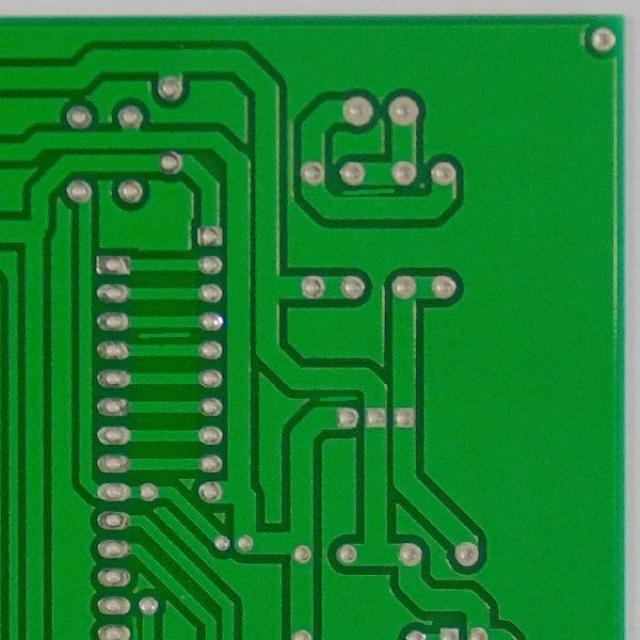Spurious_Cooper: (132, 330, 196, 340), (341, 186, 398, 196), (318, 392, 362, 404), (130, 614, 142, 640)
